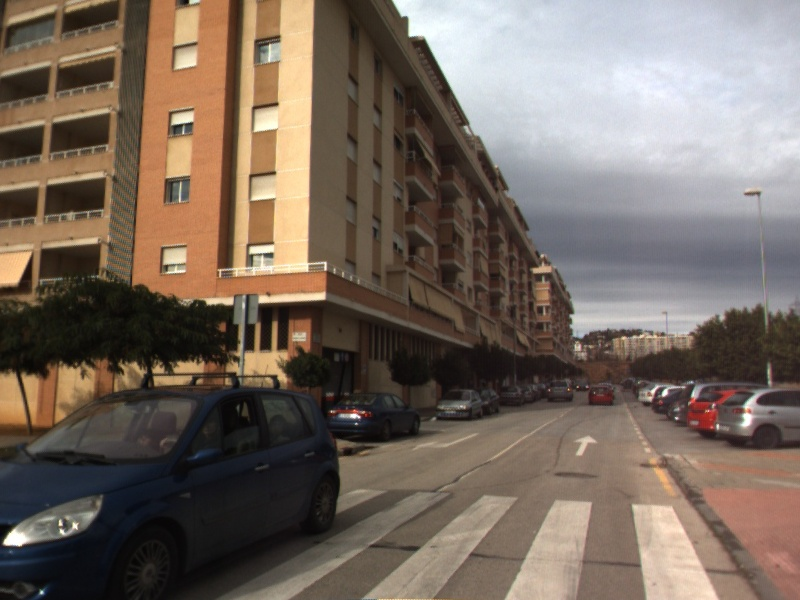STRAIGHT: (572, 433, 600, 458)
